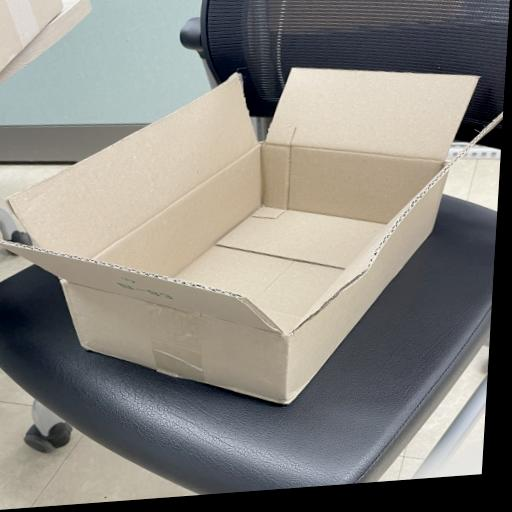box: (1, 66, 503, 406)
opened: (1, 66, 504, 337)
